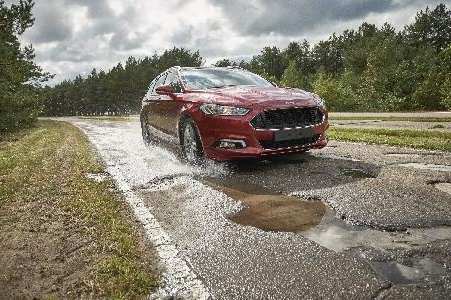pothole: (226, 193, 349, 235), (395, 159, 450, 172), (338, 165, 377, 178), (425, 177, 451, 194)
